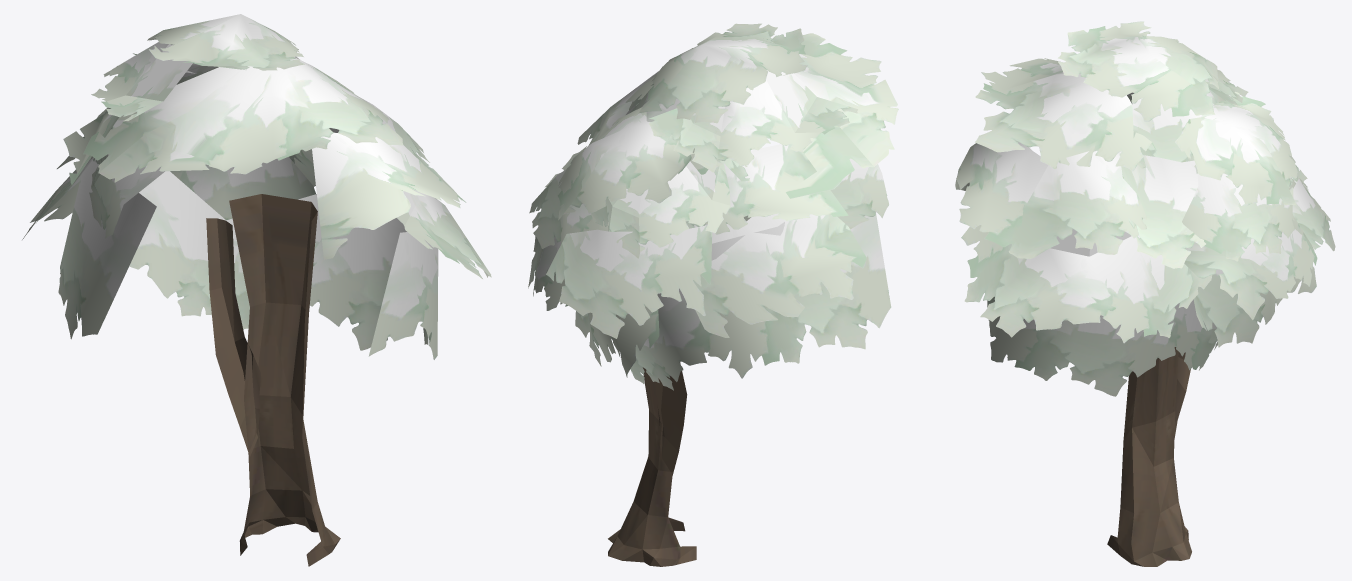
The model's file is TreeMapleMediumImpassable.fbx.
3 renders of one model, left to right at view 1: azimuth 30°, elevation 25°; view 2: azimuth 150°, elevation 25°; view 3: azimuth 270°, elevation 25°, orthographic. The views are drawn at different scales.
Parts seen in each view (by area): view 1: TreeMapleStumpMediumA; view 2: TreeMapleStumpMediumA; view 3: TreeMapleStumpMediumA.
Boxes of the visible parts, box(x1,y1,x2,y2) form: TreeMapleStumpMediumA: box(22, 14, 491, 566); TreeMapleStumpMediumA: box(528, 23, 898, 566); TreeMapleStumpMediumA: box(955, 21, 1335, 566).
Size of what is drawn, in the model's own units: 6.1 by 8.43 by 6.4.
